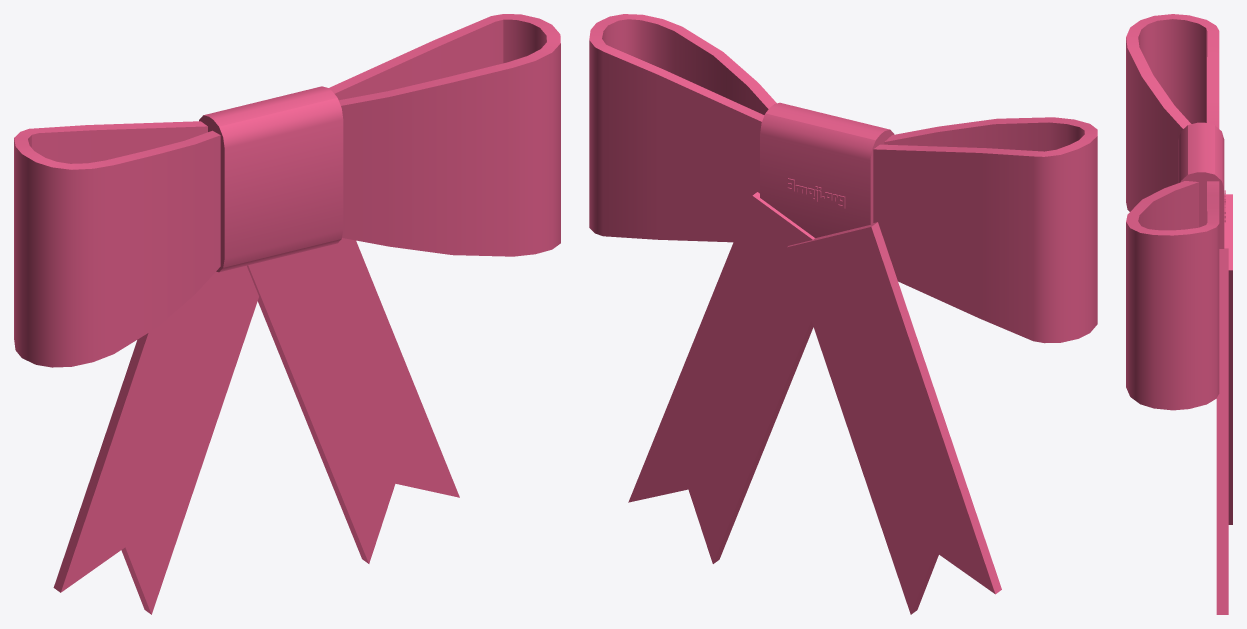
Rendered from ribbon.fbx.
3 views of the same model, side by side, from view 1: azimuth 30°, elevation 25°; view 2: azimuth 150°, elevation 25°; view 3: azimuth 270°, elevation 25° (orthographic). The views are drawn at different scales.
Parts seen in each view (by area): view 1: Cube.080; view 2: Cube.080; view 3: Cube.080.
Part boxes in pixels (x1=…): Cube.080: x1=14, y1=14, x2=560, y2=614; Cube.080: x1=589, y1=14, x2=1097, y2=614; Cube.080: x1=1126, y1=14, x2=1232, y2=614.
Size of the model in its own units: 227 by 213 by 46.31.
Materials: 1 (1 with a texture image).
